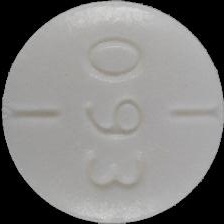68084-836: (0, 0, 224, 224)
